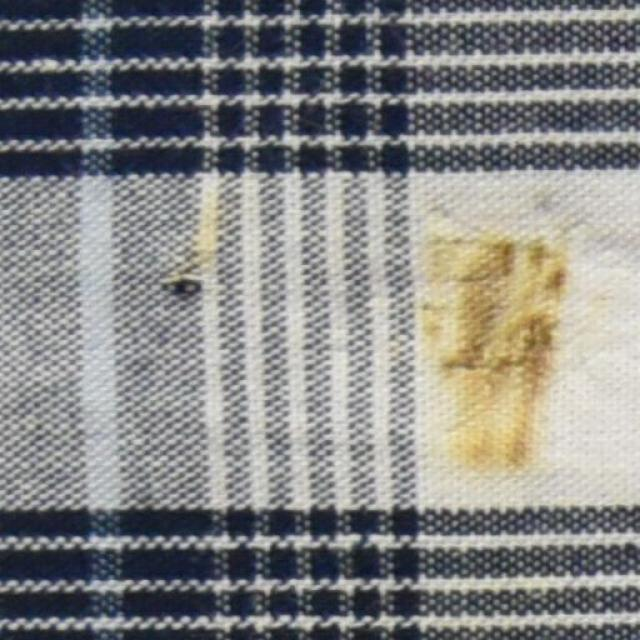Stain: (439, 215, 580, 479)
